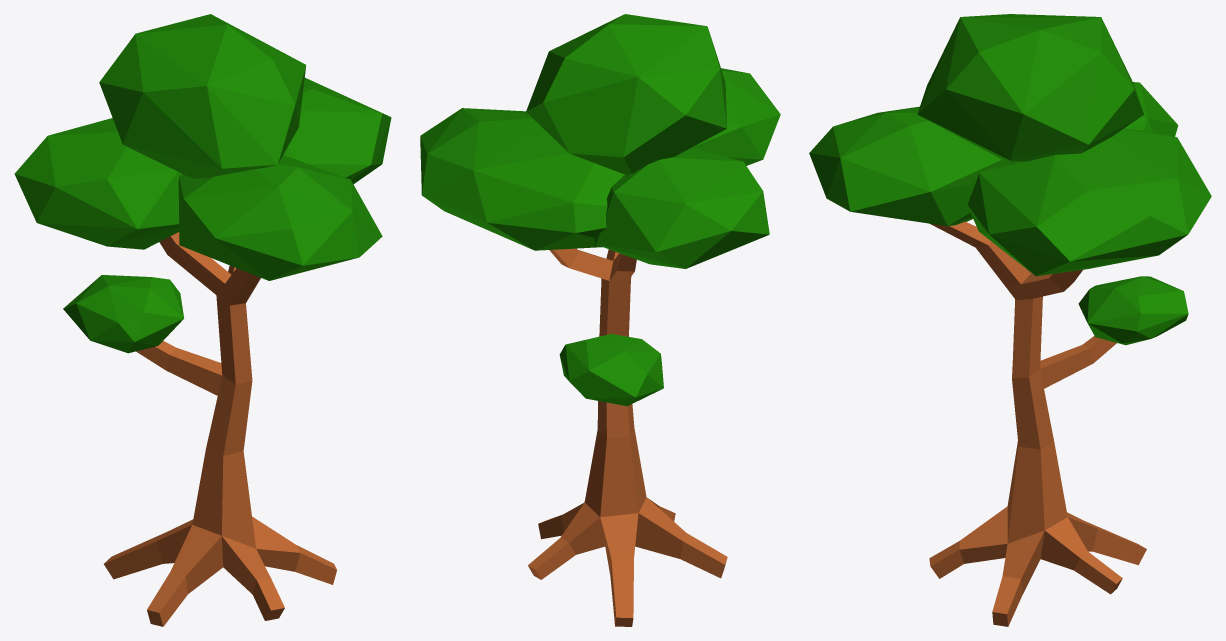
Rendered from tree_big 1.fbx.
3 renders of one model, left to right at view 1: azimuth 30°, elevation 25°; view 2: azimuth 150°, elevation 25°; view 3: azimuth 270°, elevation 25°, orthographic. The views are drawn at different scales.
Parts seen in each view (by area): view 1: tree_big; view 2: tree_big; view 3: tree_big.
Part boxes in pixels (<box>): tree_big: <box>14,14,391,626</box>; tree_big: <box>420,14,780,626</box>; tree_big: <box>809,14,1211,626</box>.
Bounding box in the file's own units: 347 × 530 × 344.
